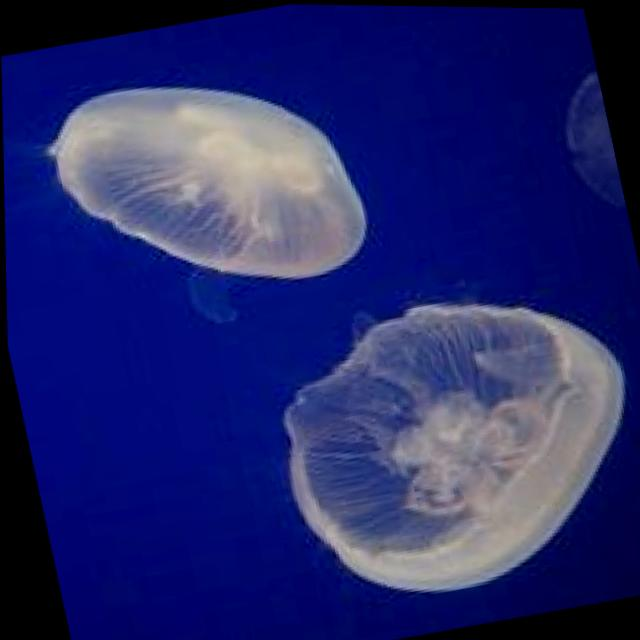Box-jellyfish: (252, 266, 640, 620), (28, 46, 378, 328)
